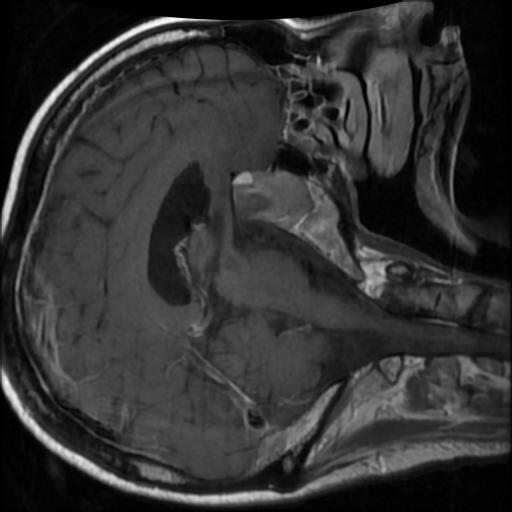pituitary tumour: (233, 167, 314, 233)
